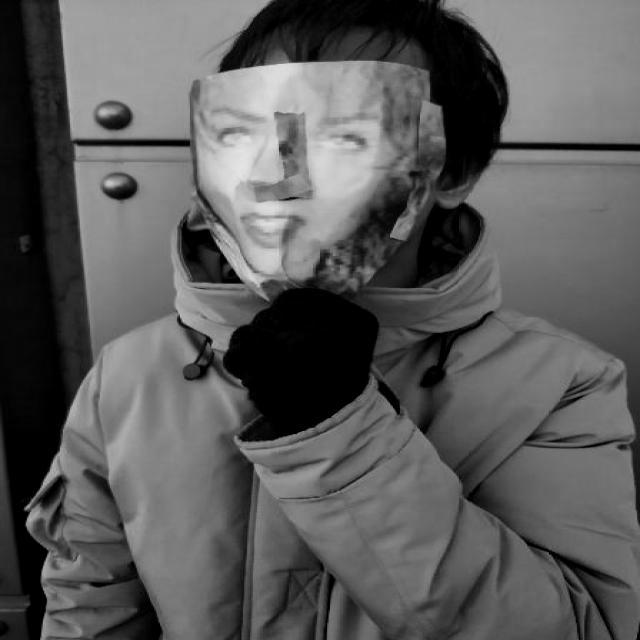fake: (203, 58, 433, 294)
